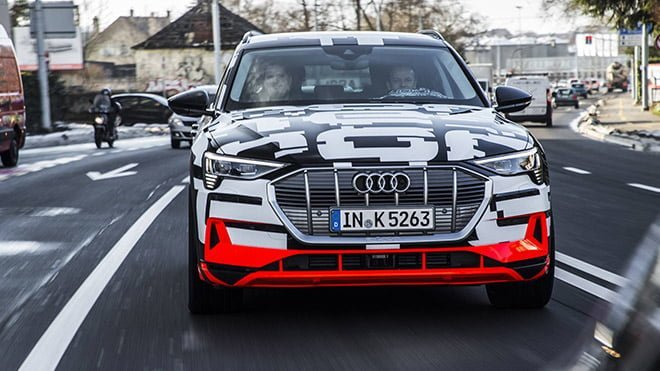audi: (347, 170, 415, 199)
